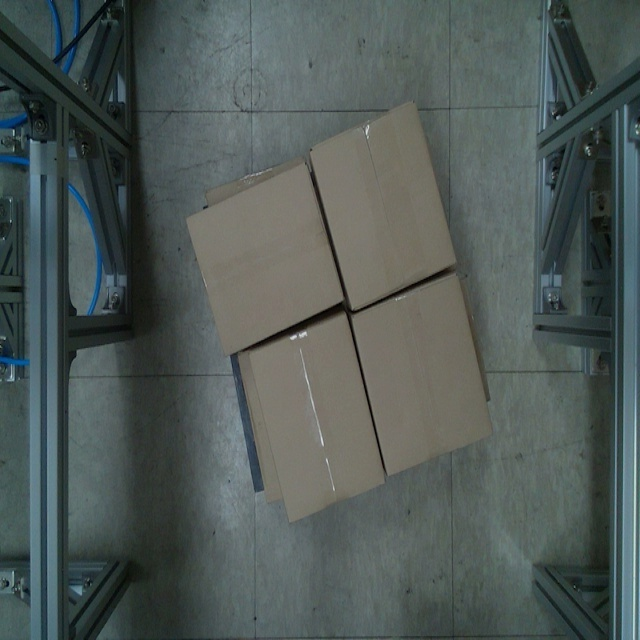box: (183, 153, 348, 361), (306, 96, 461, 316), (349, 268, 496, 481), (244, 311, 386, 524)
